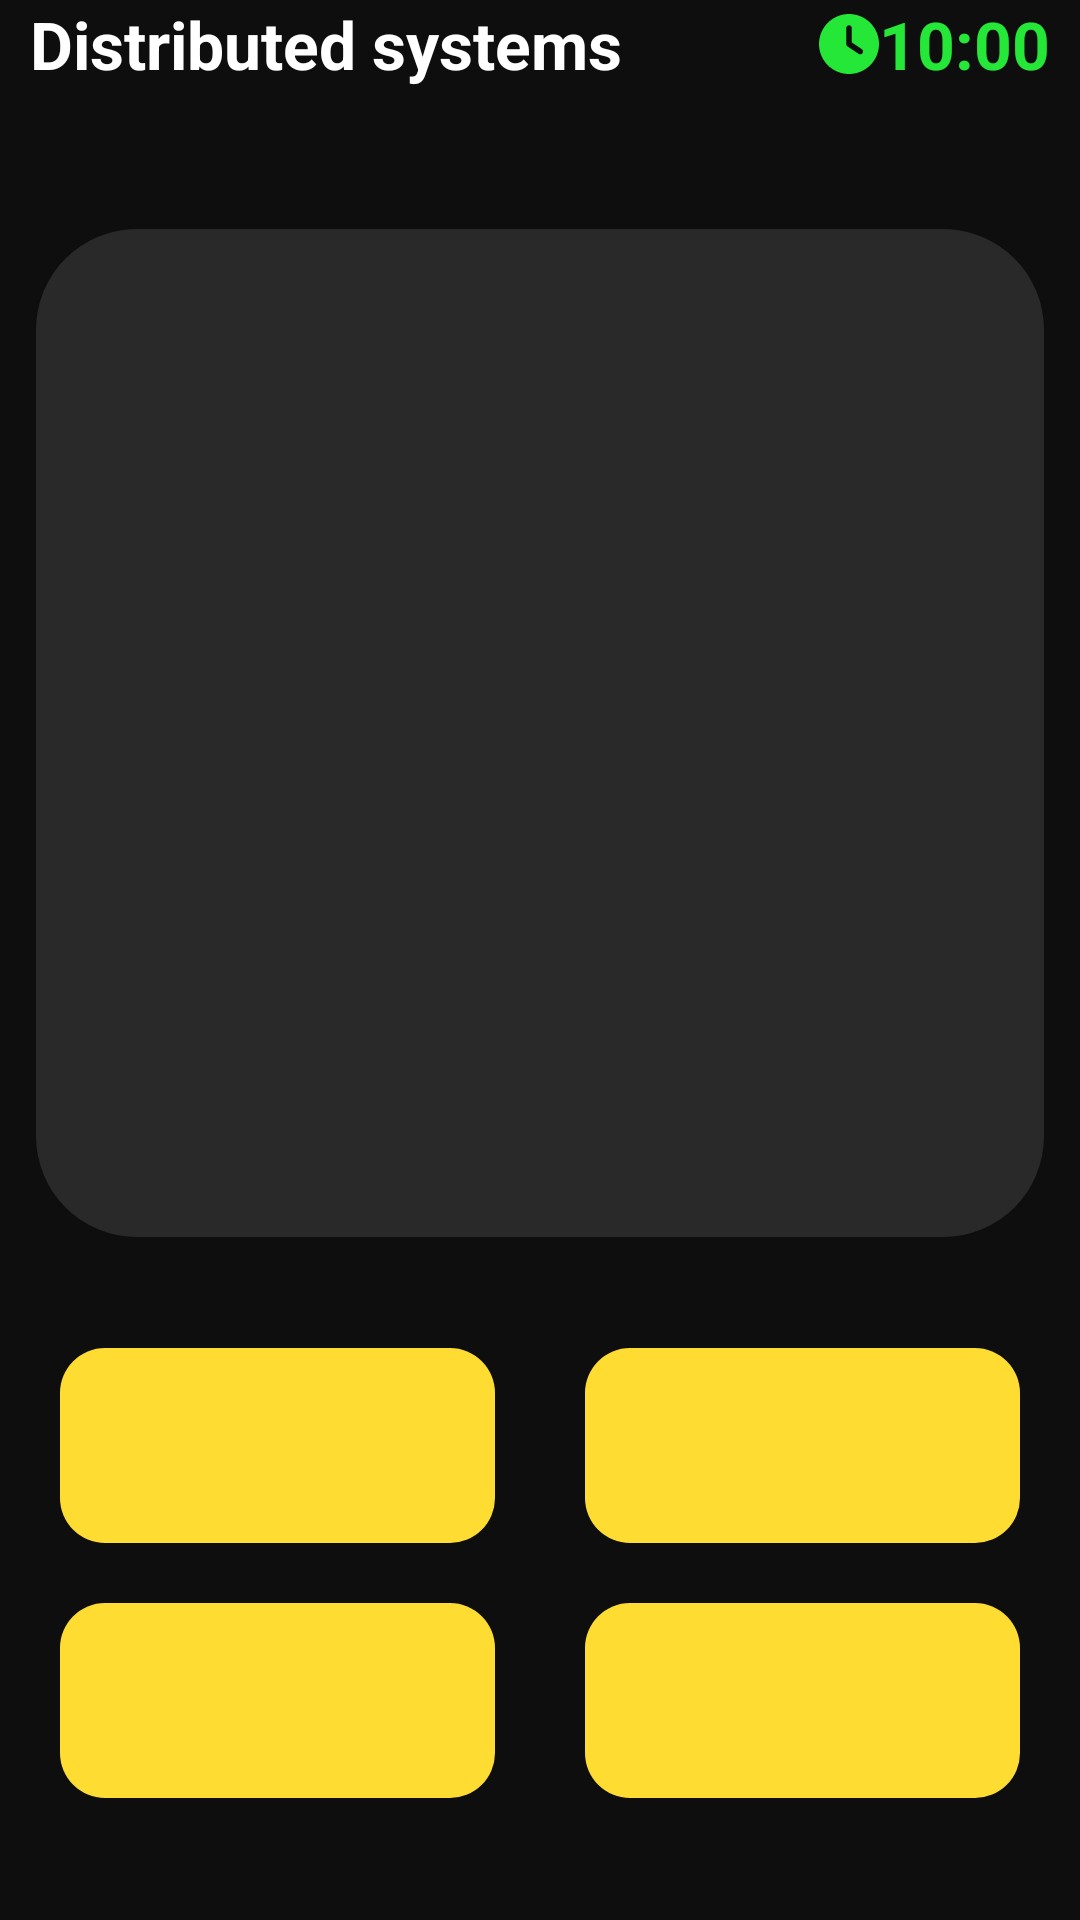

Where to tap for icons on this 1080px x 1920px app screen, as (x,y):
clock: (849,44)
